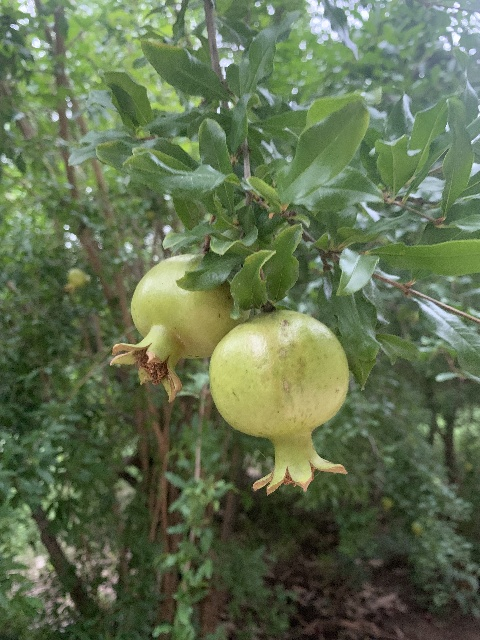mid-growth: (208, 308, 349, 495), (109, 253, 250, 402), (63, 269, 89, 294)
